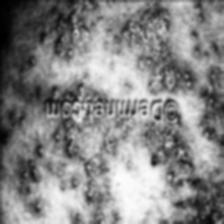Toxin: (113, 5, 194, 92), (46, 0, 96, 62), (142, 123, 192, 184), (80, 152, 100, 199)
